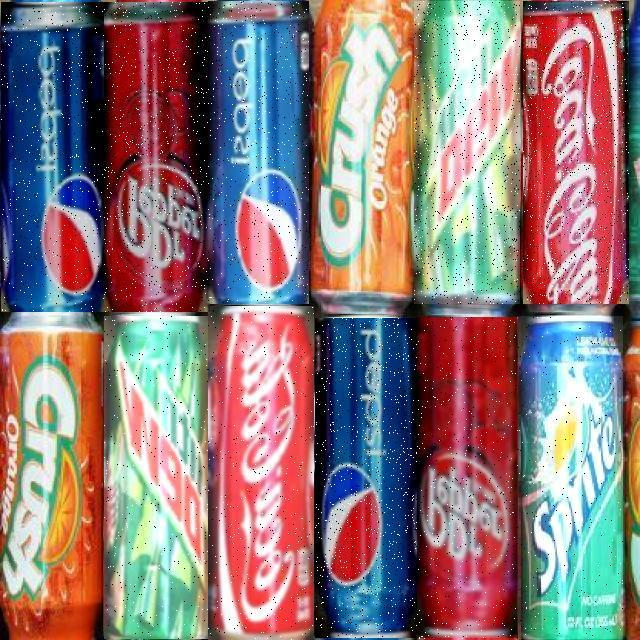Drinks: (209, 306, 315, 640), (517, 316, 623, 639), (104, 316, 208, 639), (104, 2, 212, 312), (417, 318, 519, 640), (315, 319, 417, 639), (523, 1, 629, 304), (415, 1, 521, 304), (1, 2, 104, 312), (208, 1, 309, 304)
